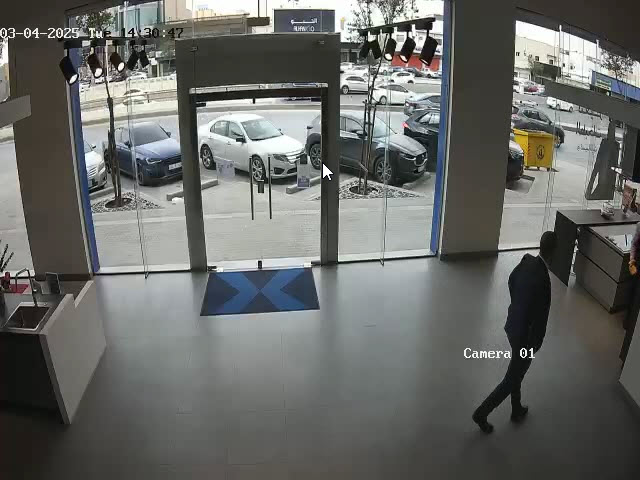employee: (471, 230, 559, 433)
female: (619, 219, 640, 364)
other: (585, 106, 621, 201)
